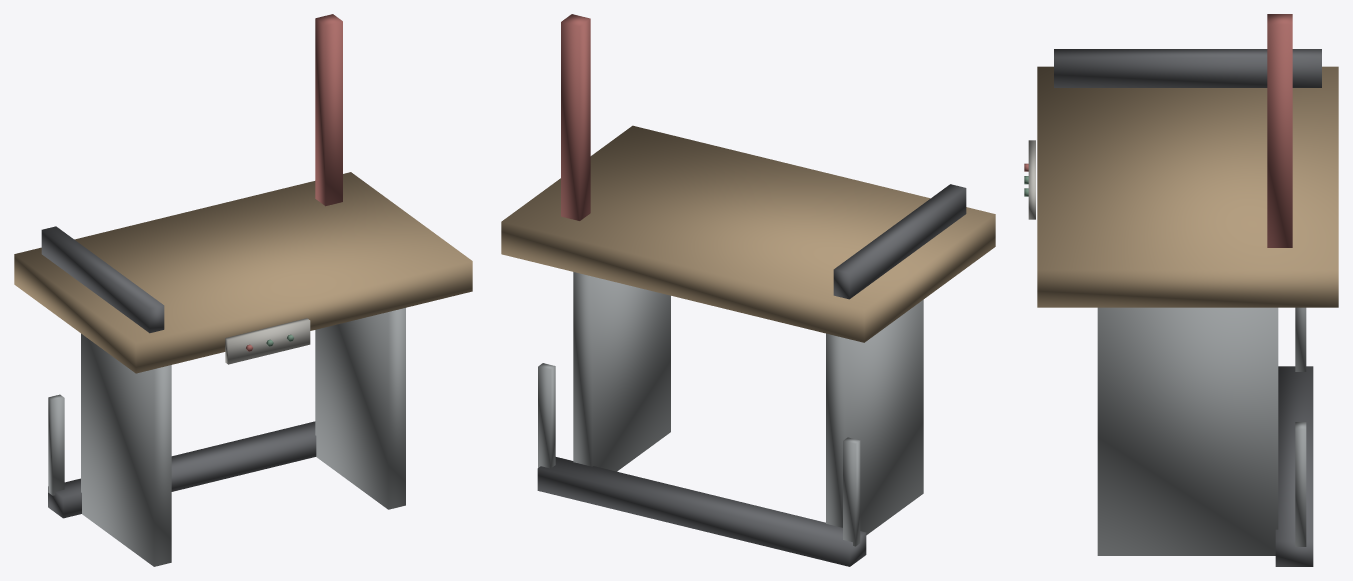
File: paper_cutter__reinforced.glb
3 renders of one model, left to right at view 1: azimuth 30°, elevation 25°; view 2: azimuth 150°, elevation 25°; view 3: azimuth 270°, elevation 25°, orthographic. The views are drawn at different scales.
Parts seen in each view (by area): view 1: world; view 2: world; view 3: world.
Boxes of the visible parts, x1,y1,x2,y2 form: world: (14, 14, 472, 566); world: (501, 14, 995, 566); world: (1024, 14, 1338, 566).
Bounding box in the file's own units: 1.18 × 1.45 × 0.7735.
